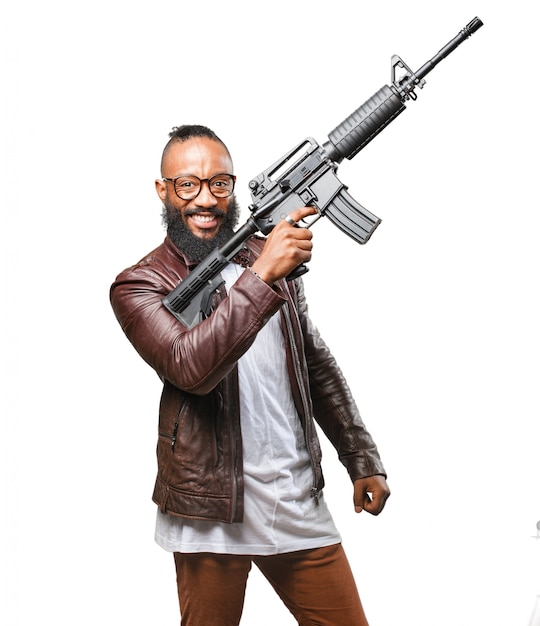gun: (159, 14, 483, 332)
